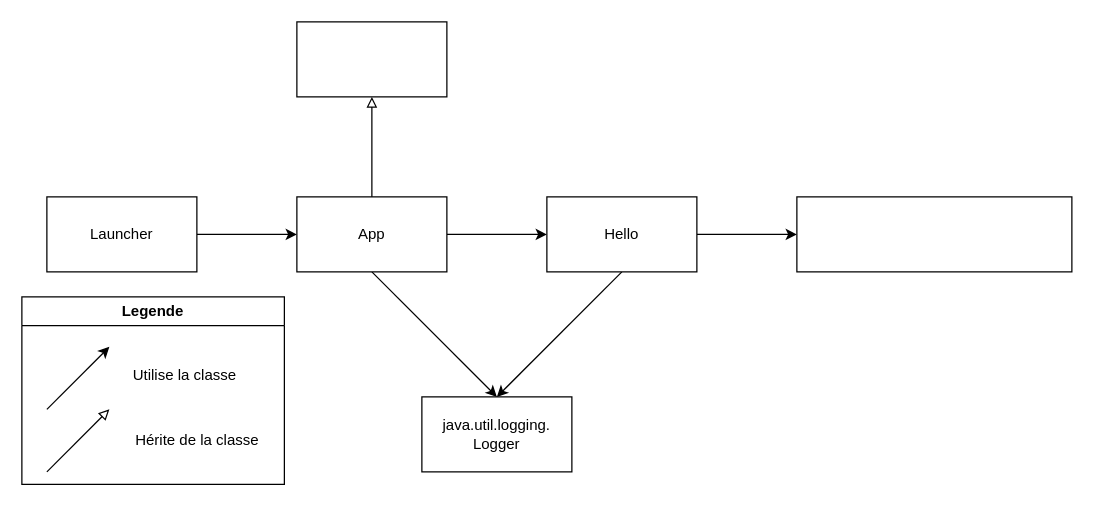
Some shapes in this 1094 by 506 pixel diagram are drawn without their labels. The shapes that lost their labels are listed below. From the top down, each one's centre as x and y in pixels, then its label:
At (x=371, y=59): "javafx.application. Application".
At (x=934, y=234): "info.debatty.java.stringsimilarity NormalizedLevenshtein".
